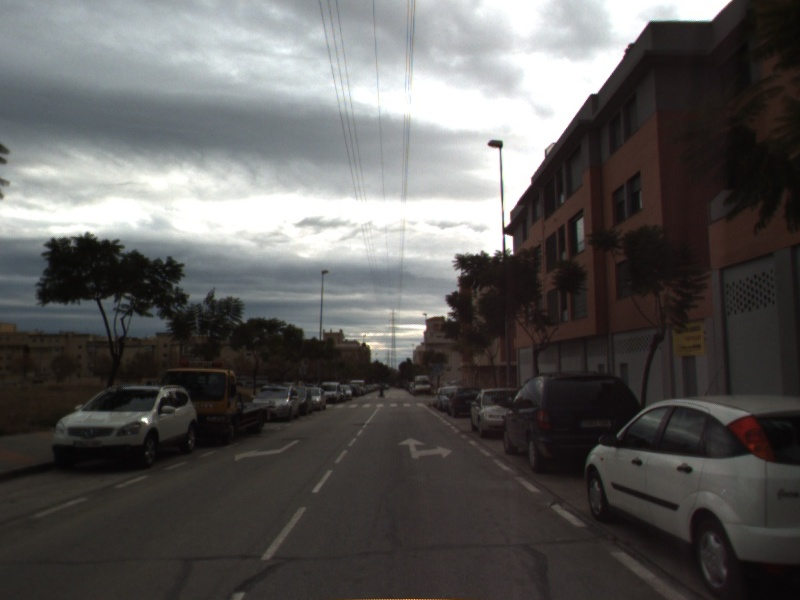STRAIGHT_RIGHT: (396, 436, 454, 461)
